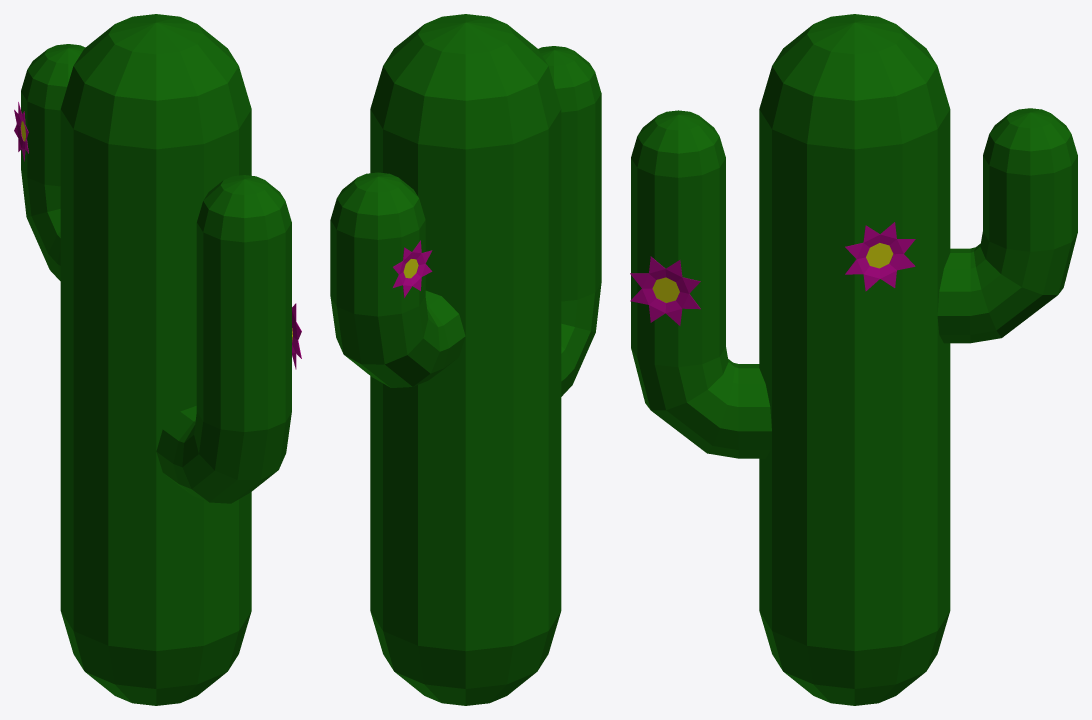
File: cactus.fbx
3 renders of one model, left to right at view 1: azimuth 30°, elevation 25°; view 2: azimuth 150°, elevation 25°; view 3: azimuth 270°, elevation 25°, orthographic.
Parts seen in each view (by area): view 1: cactus groot 1; view 2: cactus groot 1; view 3: cactus groot 1.
Boxes of the visible parts, bbox=[...] form: cactus groot 1: bbox=[14, 14, 301, 705]; cactus groot 1: bbox=[330, 14, 601, 705]; cactus groot 1: bbox=[630, 14, 1077, 705].
Size of the model in its own units: 0.5396 by 2 by 1.22.
